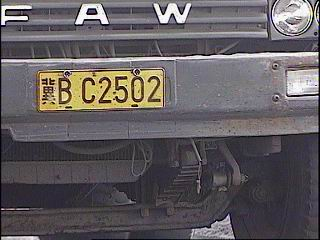plate_number: (38, 69, 164, 109)
